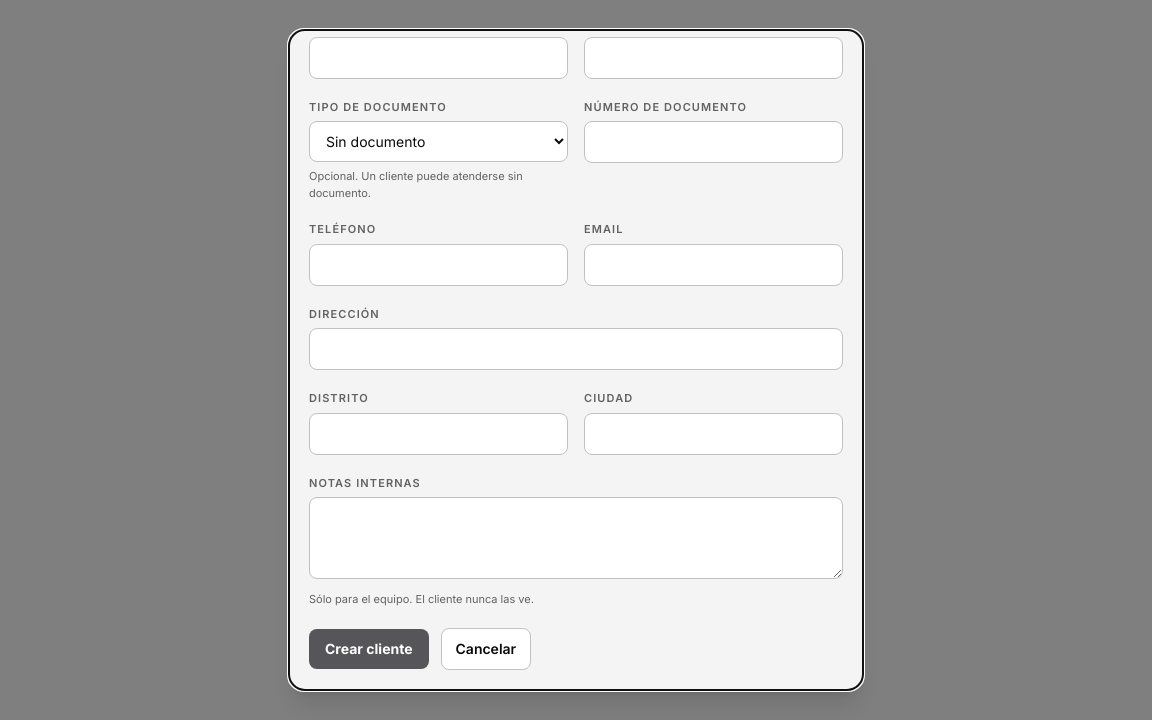
Test: keeps the dialog open and shows the server message when the save fails
(page scrolled)
Step 1. Click the button "Crear cliente" → (369, 649), box [309, 629, 428, 669]
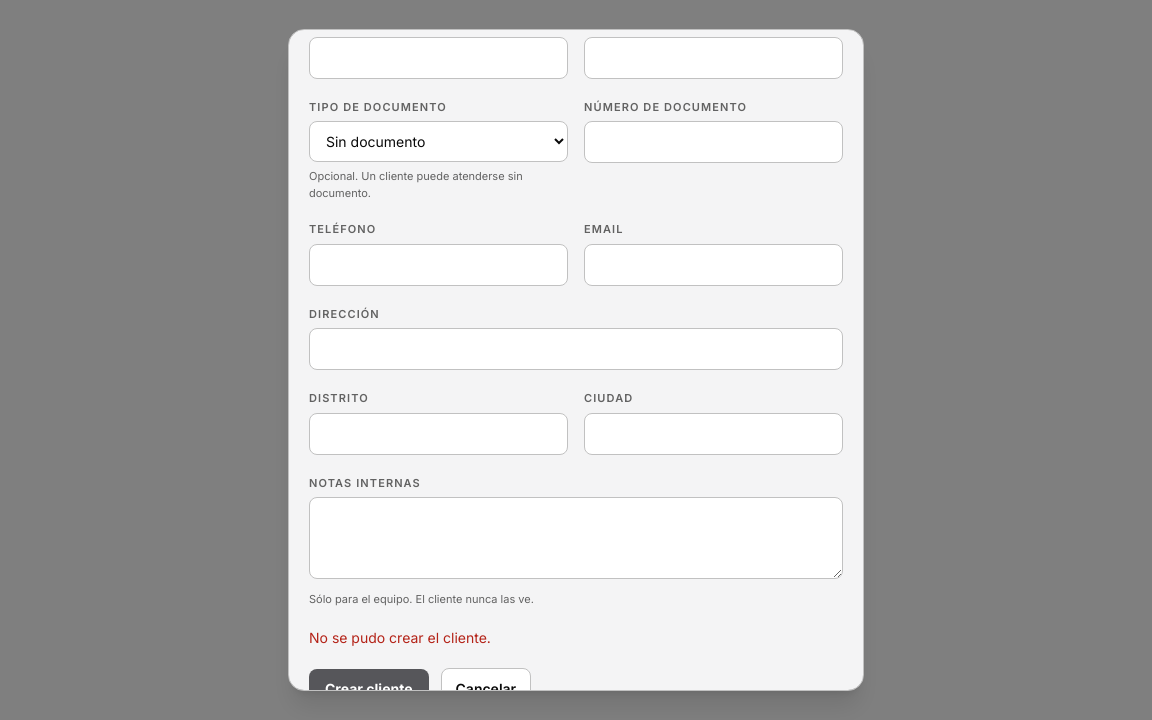
Check: the dialog "Nuevo cliente" is shown, box [288, 29, 864, 691]
Check: the text "No se pudo crear el cliente." is shown, box [309, 629, 491, 646]
